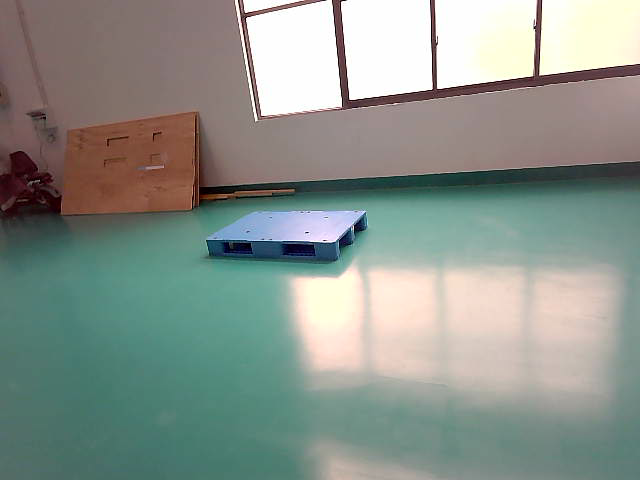block: (314, 238, 342, 260), (252, 241, 281, 259), (206, 239, 223, 255), (347, 224, 355, 245), (363, 211, 369, 231)
front: (336, 212, 368, 260)
hole pallet: (339, 231, 351, 257), (353, 218, 365, 241)
